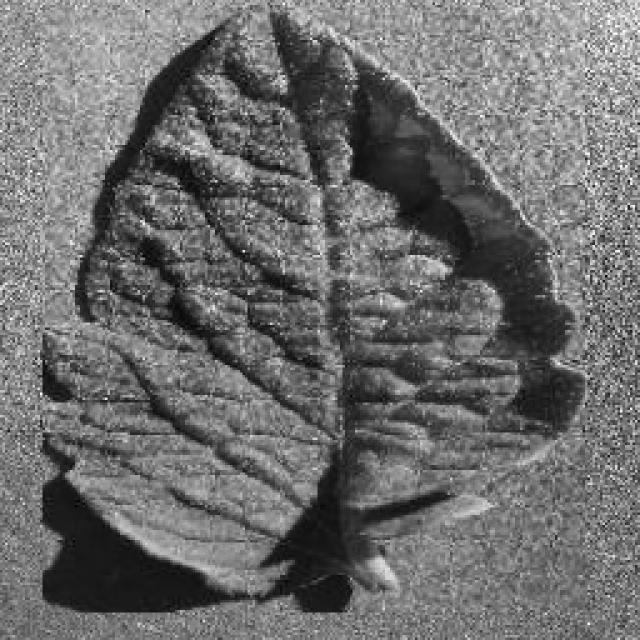Healthy: (42, 5, 588, 613)
